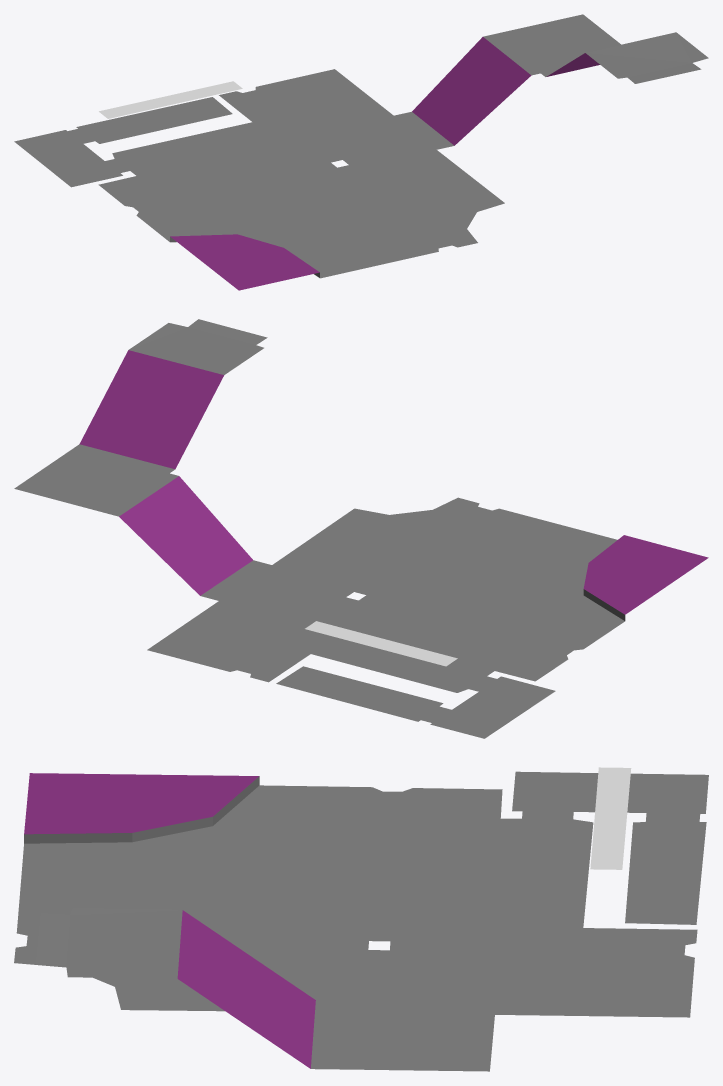
Rendered from col_taverne_id's.max.fbx.
3 renders of one model, top to bottom at view 1: azimuth 30°, elevation 25°; view 2: azimuth 150°, elevation 25°; view 3: azimuth 270°, elevation 25°, orthographic. The views are drawn at different scales.
Parts seen in each view (by area): view 1: col, col_zinc; view 2: col, col_zinc; view 3: col, col_zinc.
Part boxes in pixels (x1,y1,x2,y2): col: (14, 14, 708, 290); col_zinc: (99, 81, 242, 118); col: (14, 319, 708, 738); col_zinc: (305, 621, 457, 666); col: (14, 771, 708, 1071); col_zinc: (590, 767, 631, 869).
Bounding box in the file's own units: 18.86 × 4.01 × 14.27.
